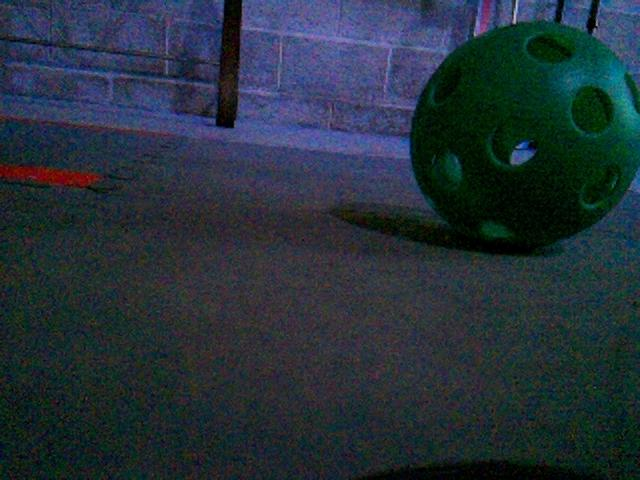Green: (406, 20, 640, 249)
